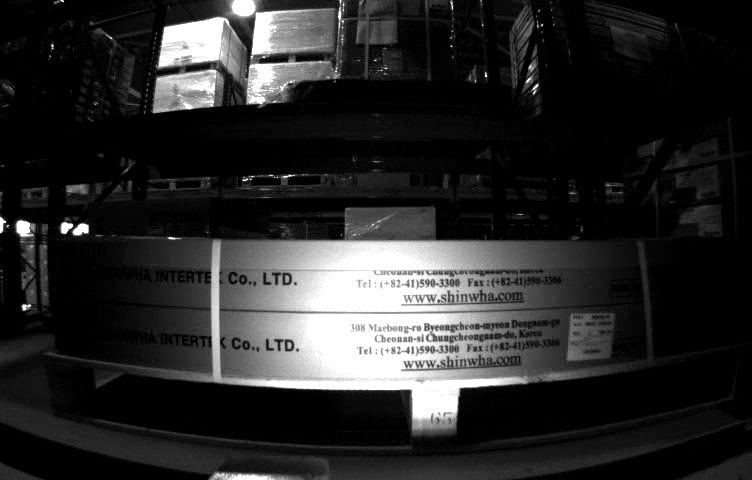True Barcode: (568, 313, 614, 359)
